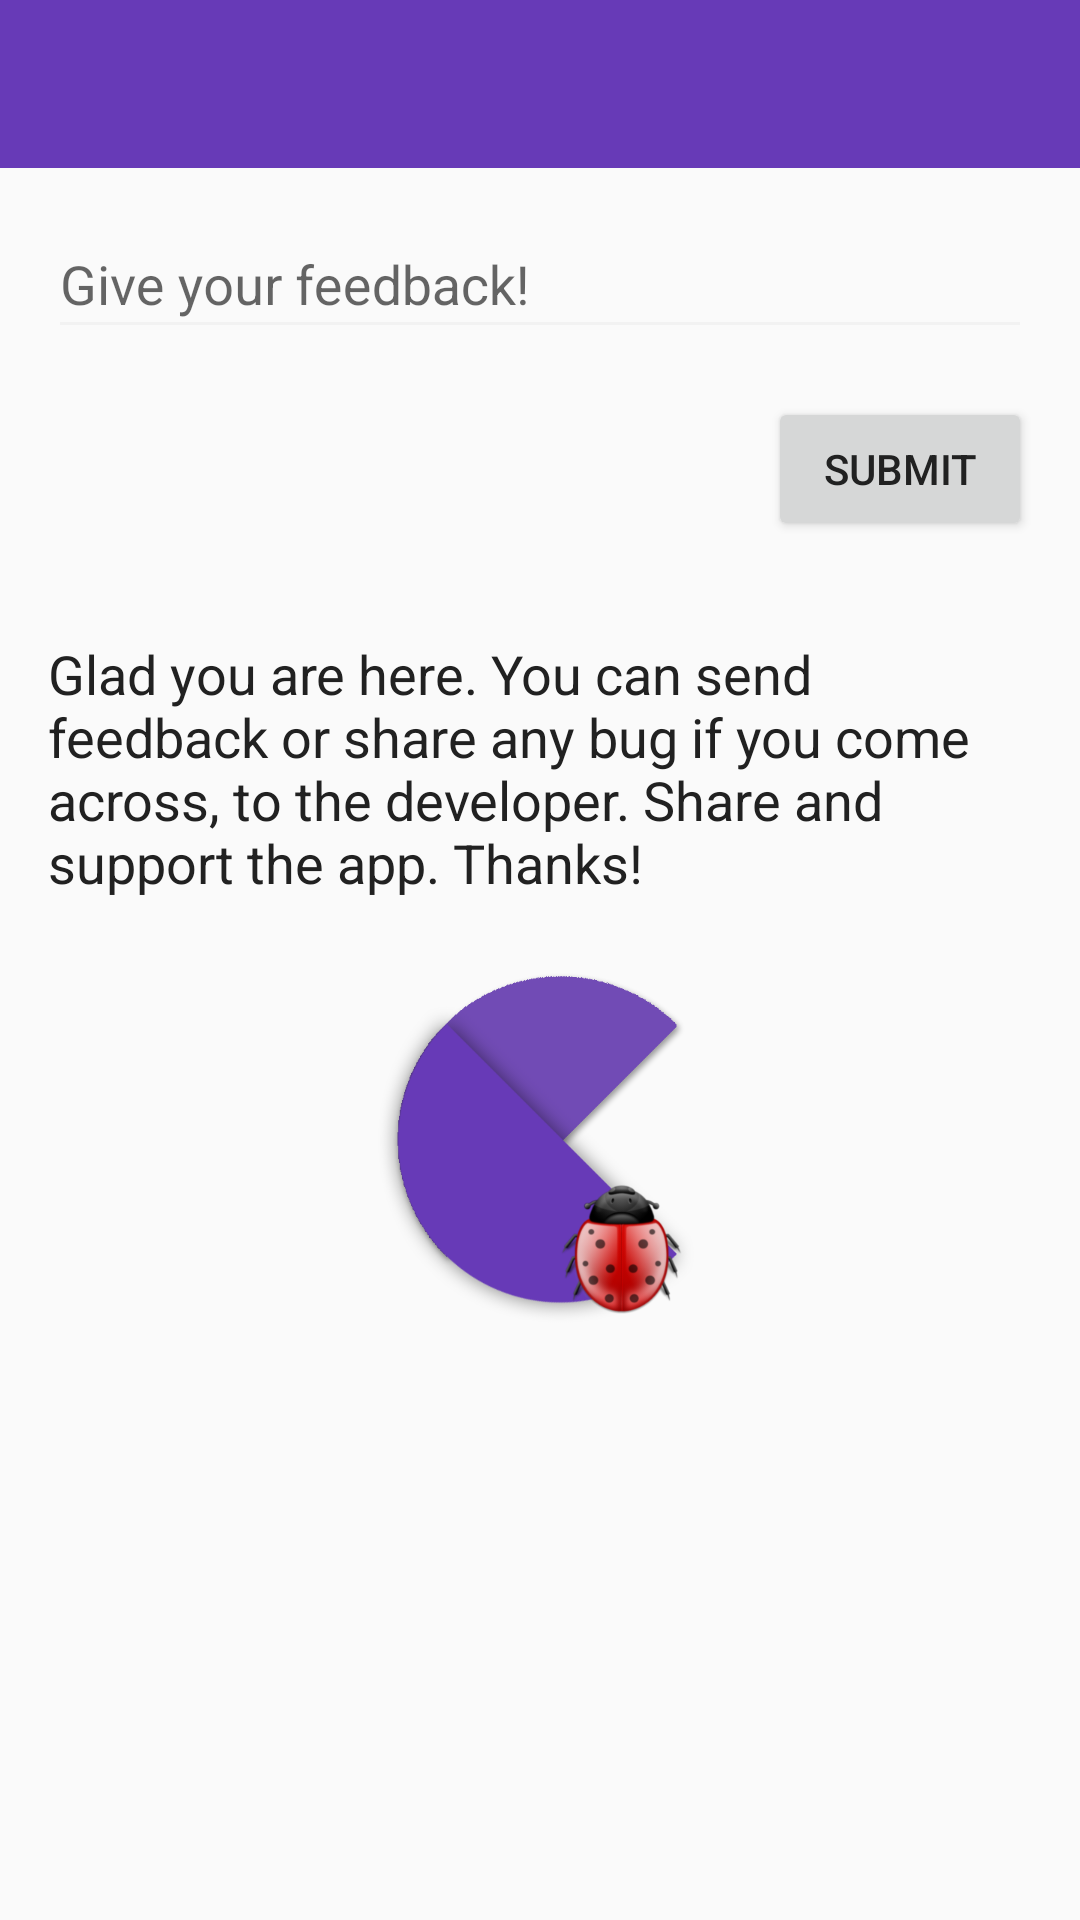

Named icons in this screenshot (1080x1920) and their centers, (x,y):
Cgpa calculator icon: (535,1144)
